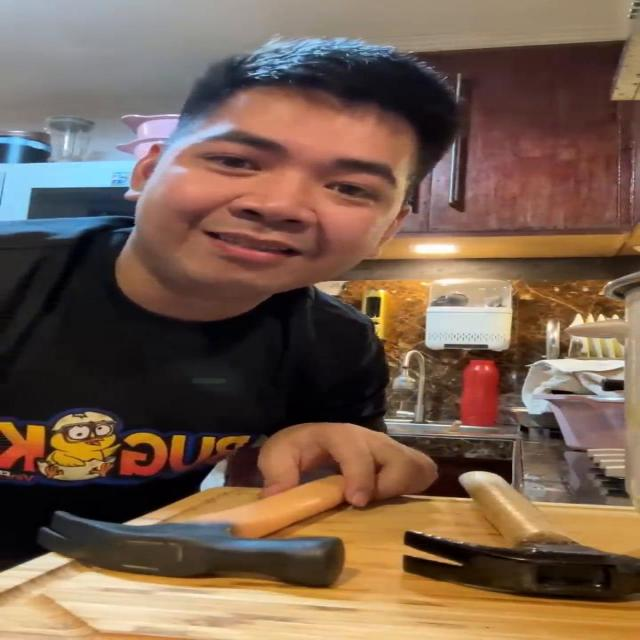hammer: (37, 470, 361, 588), (398, 471, 640, 607)
